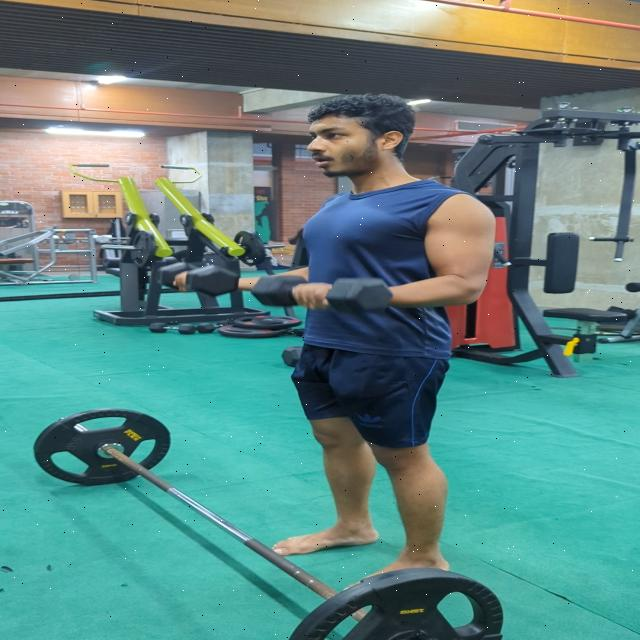Normal_DumbbellBicepCurls: (164, 94, 497, 569)
